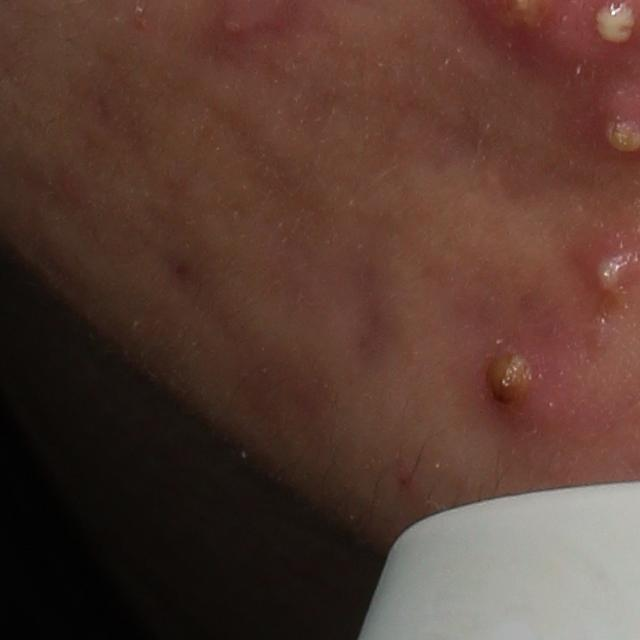pustule: (468, 331, 559, 420)
